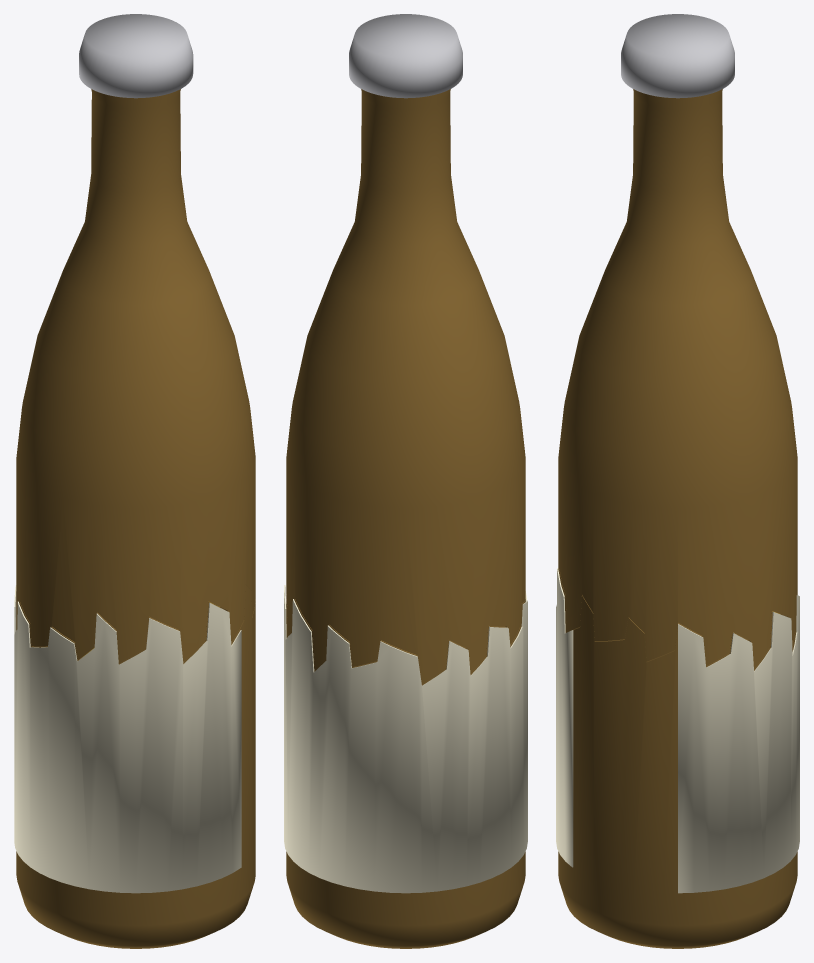
File: bottle_beer_broken.glb
3 views of the same model, side by side, from view 1: azimuth 30°, elevation 25°; view 2: azimuth 150°, elevation 25°; view 3: azimuth 270°, elevation 25° (orthographic).
Parts seen in each view (by area): view 1: Neck, Label, Glass, Cap; view 2: Neck, Label, Glass, Cap; view 3: Neck, Glass, Label, Cap.
Boxes of the visible parts, x1,y1,x2,y2 form: Neck: (16,89,255,663); Label: (14,585,241,893); Glass: (16,585,255,948); Cap: (79,14,193,98); Neck: (286,89,525,684); Label: (284,585,527,893); Glass: (286,594,525,948); Cap: (349,14,462,98); Neck: (558,89,797,668); Glass: (558,569,797,948); Label: (556,568,799,893); Cap: (621,14,734,98).
Size of the model in its own units: 0.0662 by 0.2615 by 0.0662.
